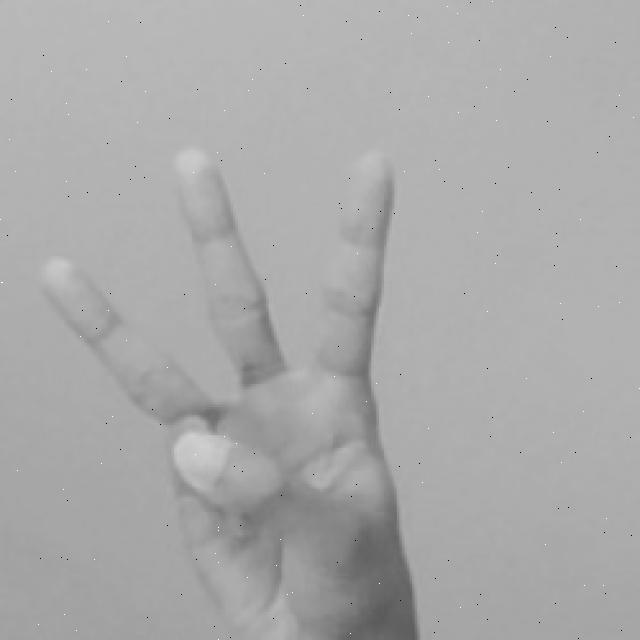W: (28, 134, 421, 625)
